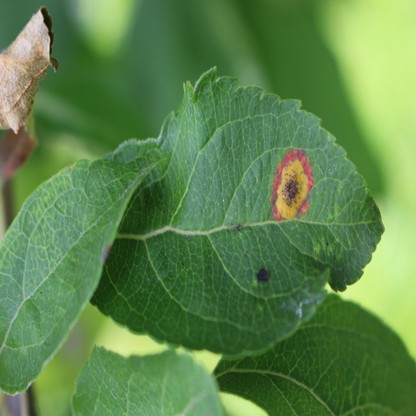rust: (273, 151, 314, 220)
